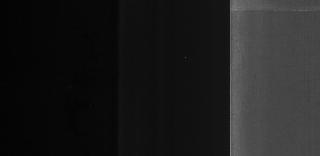welding line: (228, 5, 320, 14)
